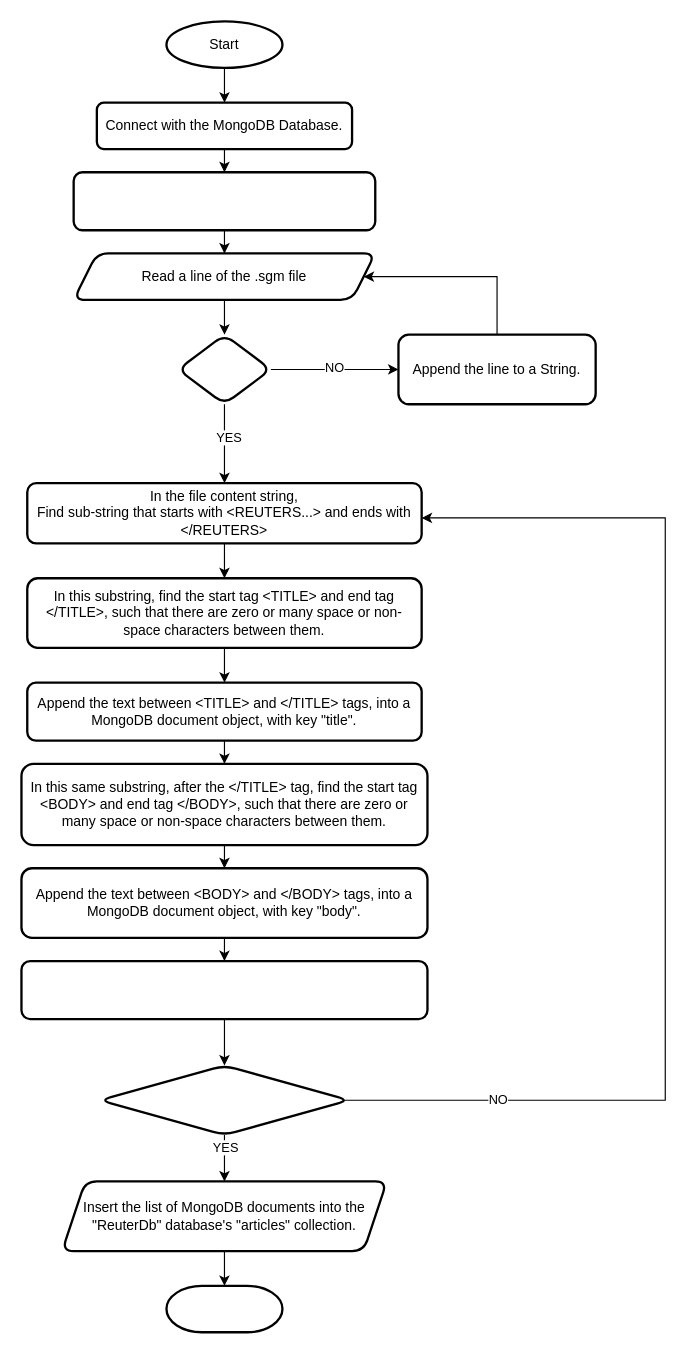
This 695x1353 diagram has some shape labels left out. Each missing label, with the centre of its shape:
add this MongoDB document to a list of documents.: point (224, 989)
Create a "ReuterDb" Database and "articles" collection in MongoDb.: point (224, 201)
End: point (224, 1308)
is it End of file content in String variable?: point (224, 1100)
is Line null?: point (223, 369)
